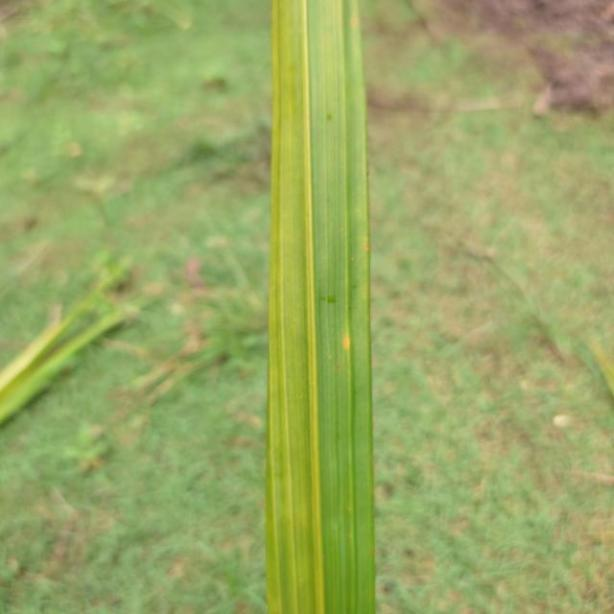nitrogen: (261, 0, 377, 614)
